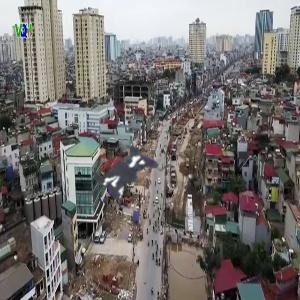drone: (53, 100, 208, 255)
